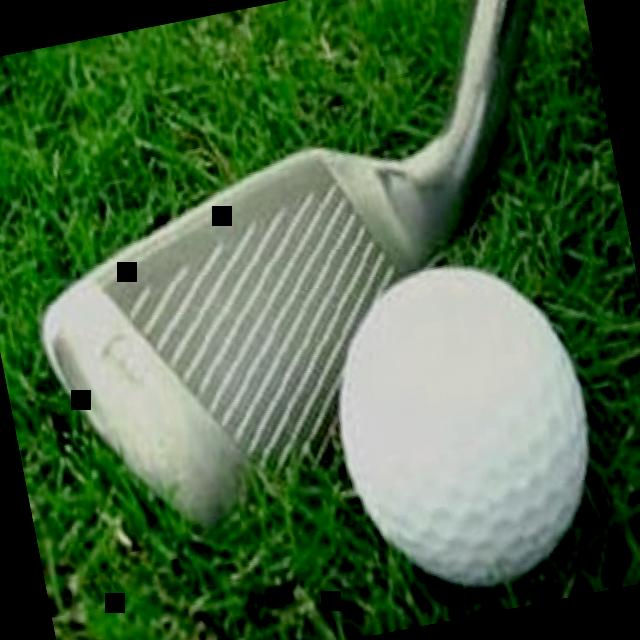golf ball: (316, 238, 628, 617)
